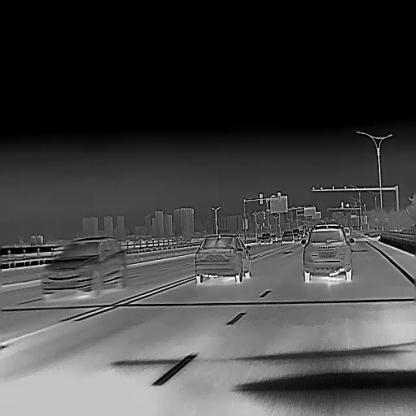car: (39, 234, 126, 293), (300, 223, 354, 282), (194, 232, 252, 283), (281, 230, 294, 244), (260, 232, 272, 244), (344, 226, 351, 237), (293, 231, 300, 240)
